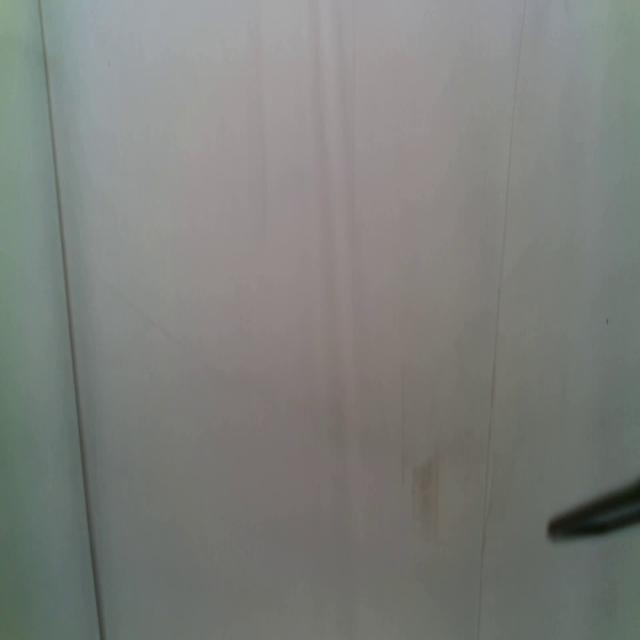crease: (38, 0, 104, 640), (475, 0, 528, 640)
hole: (605, 314, 611, 327)
